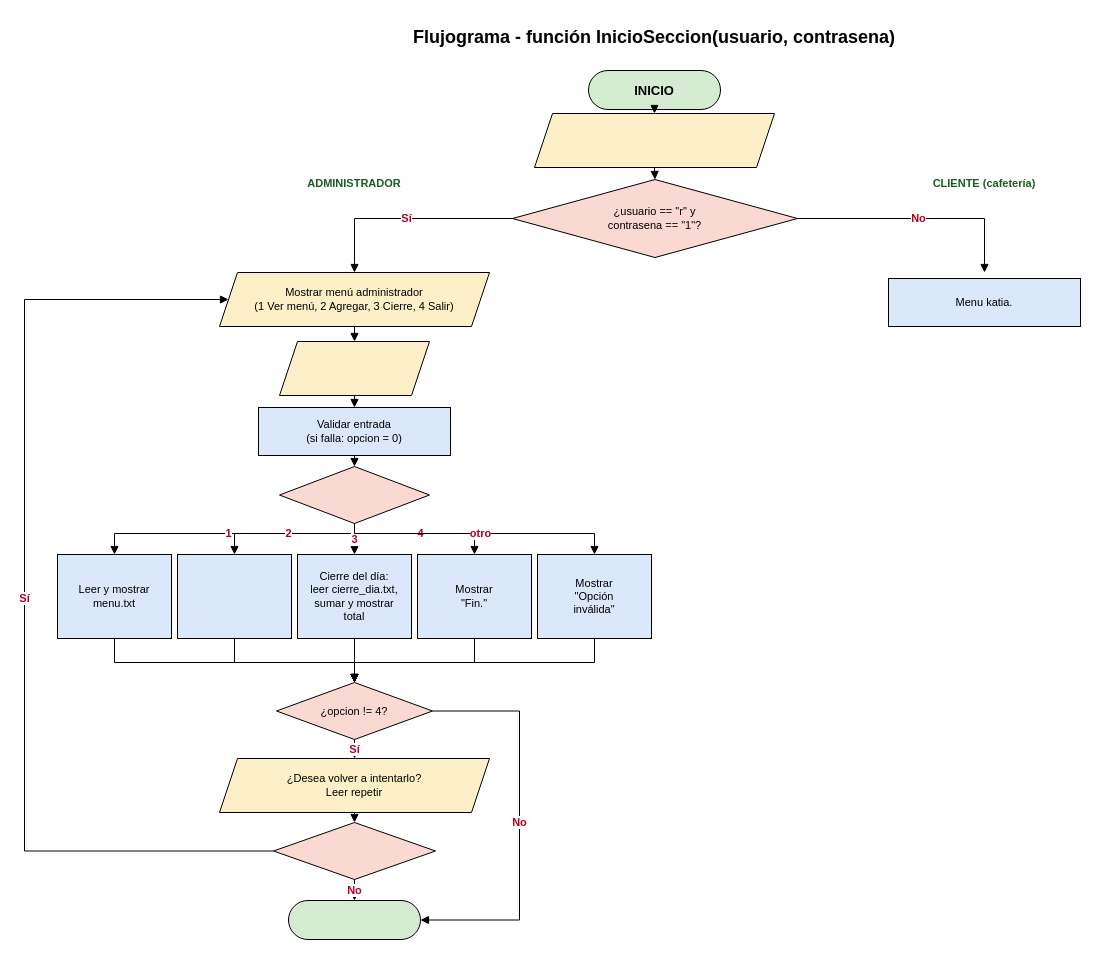
Image size: 1098x957. Some labels were removed from this diagram. Each missing label, with the box of its shape:
Agregar producto nuevo a menu.txt: (176, 554, 292, 638)
FIN: (288, 900, 420, 940)
Leer opcion: (278, 340, 430, 396)
Recibir usuario y contrasena: (534, 112, 774, 168)
¿repetir == 's' o 'S'?: (272, 822, 436, 880)
¿Valor de opcion?: (278, 466, 430, 524)
